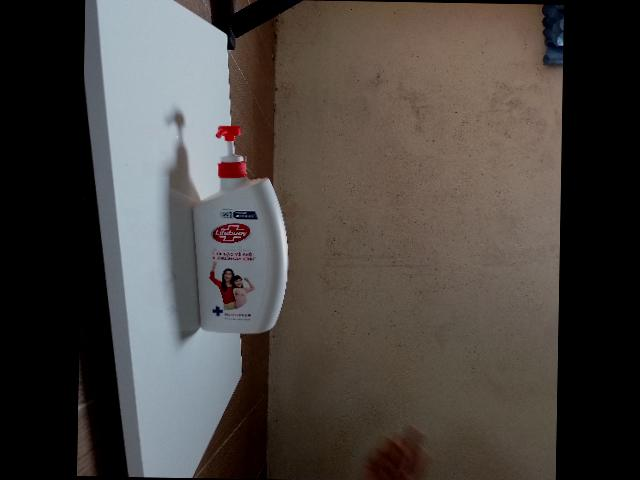life-buoy: (191, 124, 287, 334)
